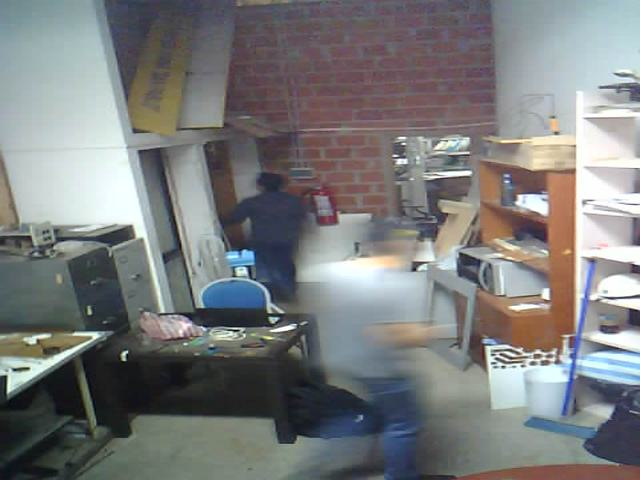person: (342, 193, 472, 480), (214, 156, 329, 321)
